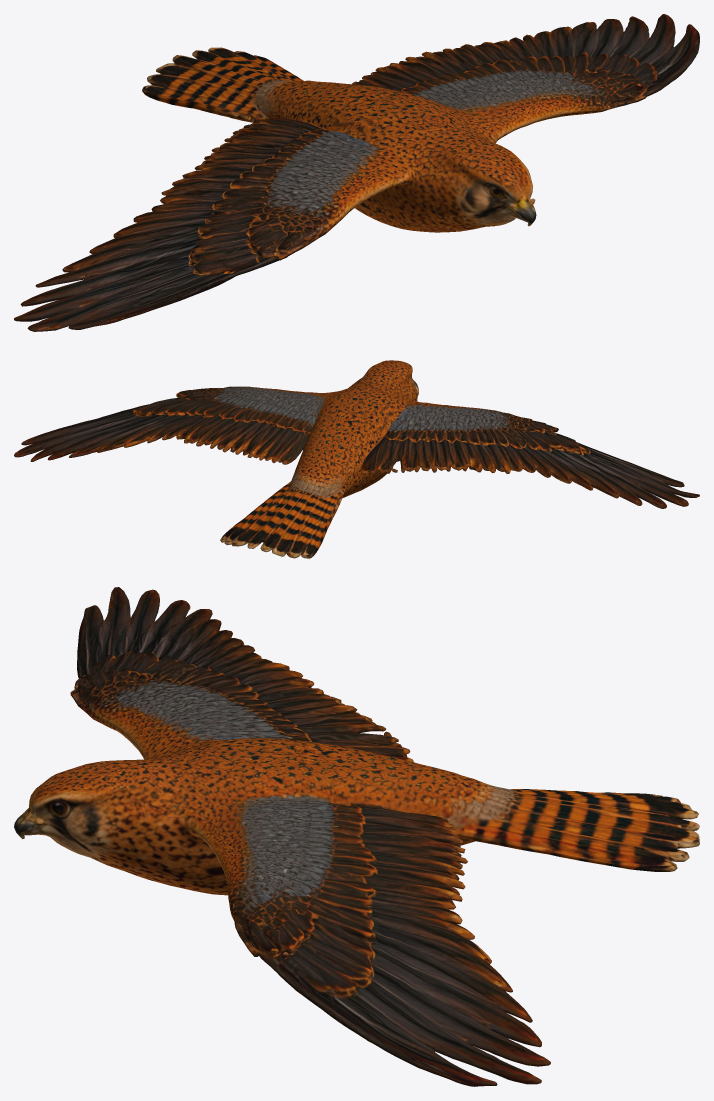
File: ember-kestrel.glb
3 renders of one model, top to bottom at view 1: azimuth 30°, elevation 25°; view 2: azimuth 150°, elevation 25°; view 3: azimuth 270°, elevation 25°, orthographic. The views are drawn at different scales.
Parts seen in each view (by area): view 1: tripo_node_eaa6a464-b294-491b-9929-8565a2bd53fa; view 2: tripo_node_eaa6a464-b294-491b-9929-8565a2bd53fa; view 3: tripo_node_eaa6a464-b294-491b-9929-8565a2bd53fa.
Boxes of the visible parts, x1,y1,x2,y2 form: tripo_node_eaa6a464-b294-491b-9929-8565a2bd53fa: (14, 14, 699, 331); tripo_node_eaa6a464-b294-491b-9929-8565a2bd53fa: (14, 360, 699, 558); tripo_node_eaa6a464-b294-491b-9929-8565a2bd53fa: (14, 587, 699, 1086).
Bounding box in the file's own units: 1 × 0.1284 × 0.5981.
Materials: 1 (1 with a texture image).
